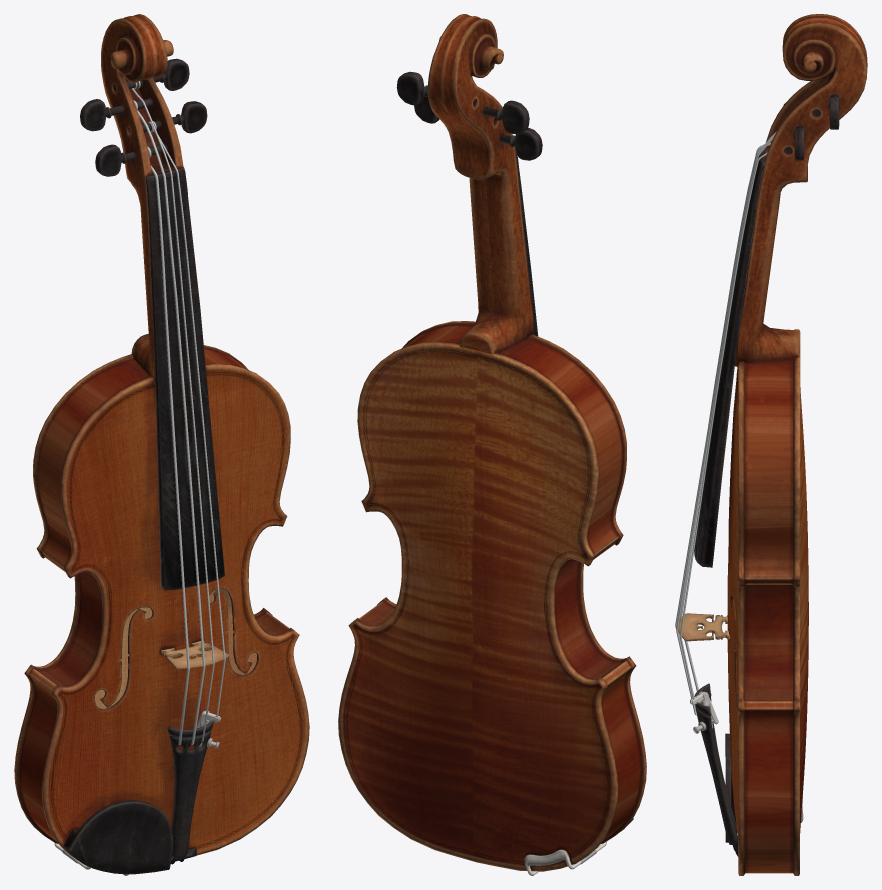
File: violin.fbx
3 views of the same model, side by side, from view 1: azimuth 30°, elevation 25°; view 2: azimuth 150°, elevation 25°; view 3: azimuth 270°, elevation 25° (orthographic). The views are drawn at different scales.
Visible parts, largest first — view 1: violin_body2, violin_body5, violin_body3, violin_body4, violin_body6; view 2: violin_body2, violin_body5, violin_body3, violin_body6; view 3: violin_body2.
Boxes of the visible parts, x1,y1,x2,y2 form: violin_body2: (14,14,309,875); violin_body5: (80,98,152,131); violin_body3: (95,144,167,176); violin_body4: (142,101,207,133); violin_body6: (113,58,189,91); violin_body2: (338,14,646,875); violin_body5: (483,100,529,134); violin_body3: (500,127,542,160); violin_body6: (396,71,475,106); violin_body2: (675,14,867,875).
Size of the model in its own units: 0.2416 by 1.16 by 0.3943.
